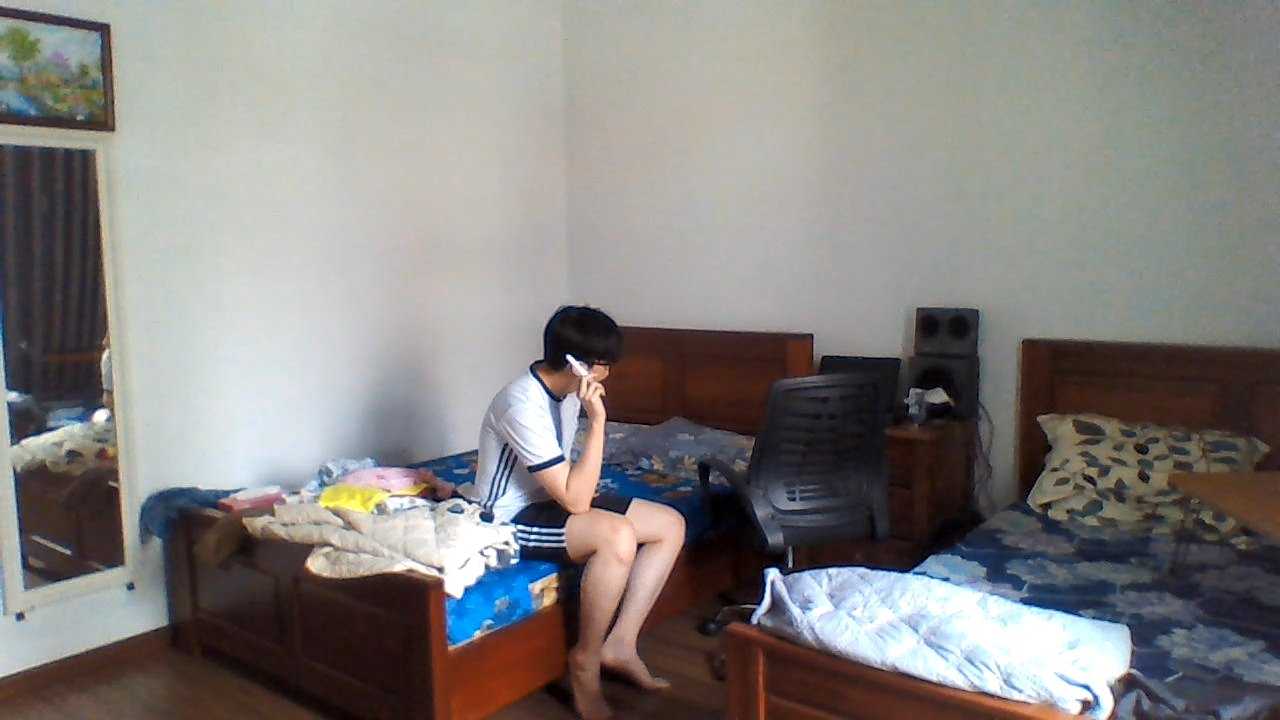cigarette: (565, 353, 589, 378)
person: (460, 285, 690, 720)
